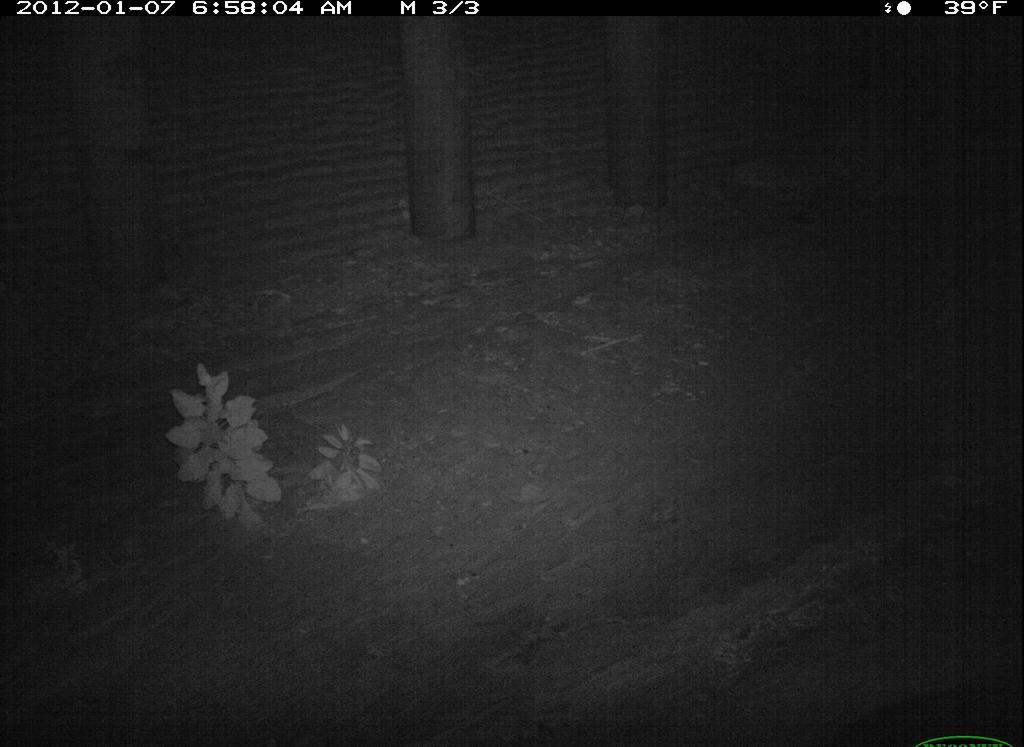skunk: (8, 4, 1024, 747)
